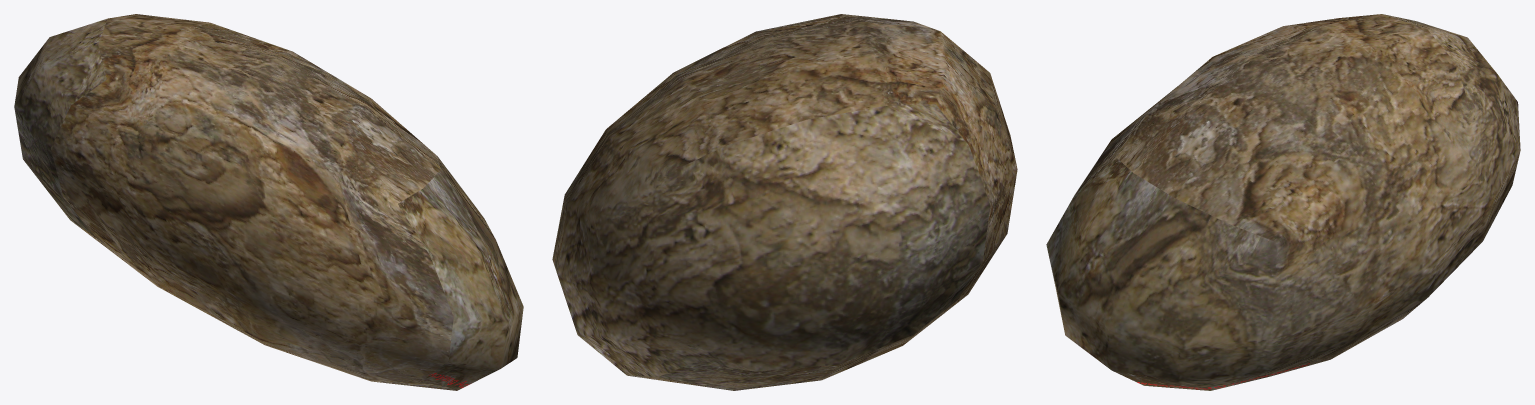
Rendered from Rock1.fbx.
3 renders of one model, left to right at view 1: azimuth 30°, elevation 25°; view 2: azimuth 150°, elevation 25°; view 3: azimuth 270°, elevation 25°, orthographic. The views are drawn at different scales.
Parts seen in each view (by area): view 1: PlaneandEnvironment:obstacle2:pCube1; view 2: PlaneandEnvironment:obstacle2:pCube1; view 3: PlaneandEnvironment:obstacle2:pCube1.
Part boxes in pixels (bbox=[...]): PlaneandEnvironment:obstacle2:pCube1: bbox=[14, 14, 523, 390]; PlaneandEnvironment:obstacle2:pCube1: bbox=[552, 14, 1017, 390]; PlaneandEnvironment:obstacle2:pCube1: bbox=[1046, 14, 1520, 390].
Bounding box in the file's own units: 1.87 × 1.49 × 2.36.
Materials: 1 (1 with a texture image).
